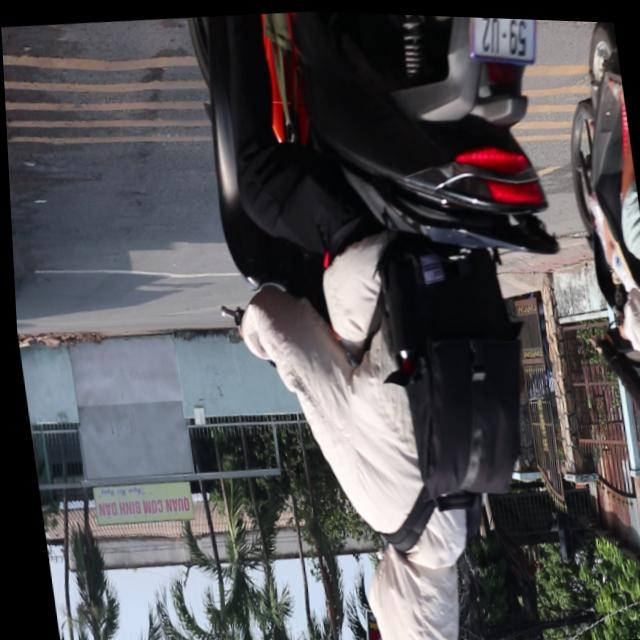licenseplate: (178, 5, 632, 640)
nohelmet: (465, 14, 543, 63)
